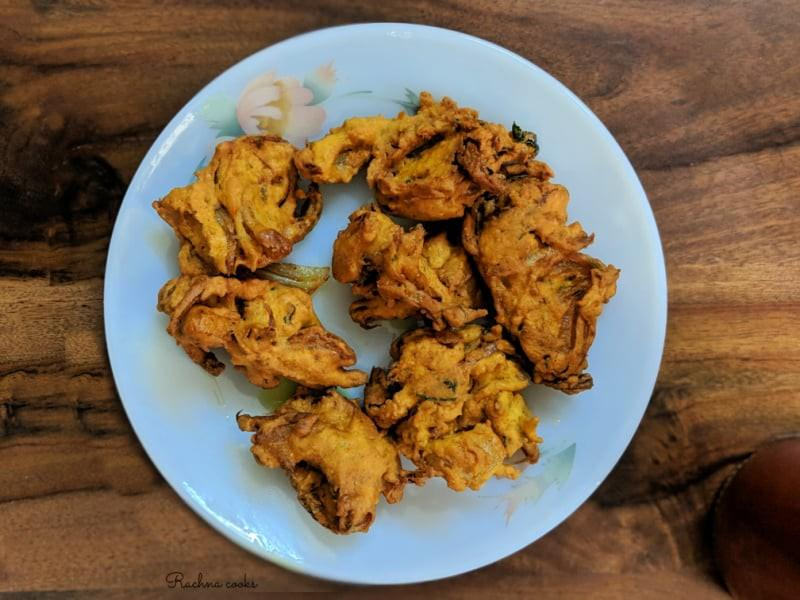OnionPakoda: (151, 91, 619, 534)
